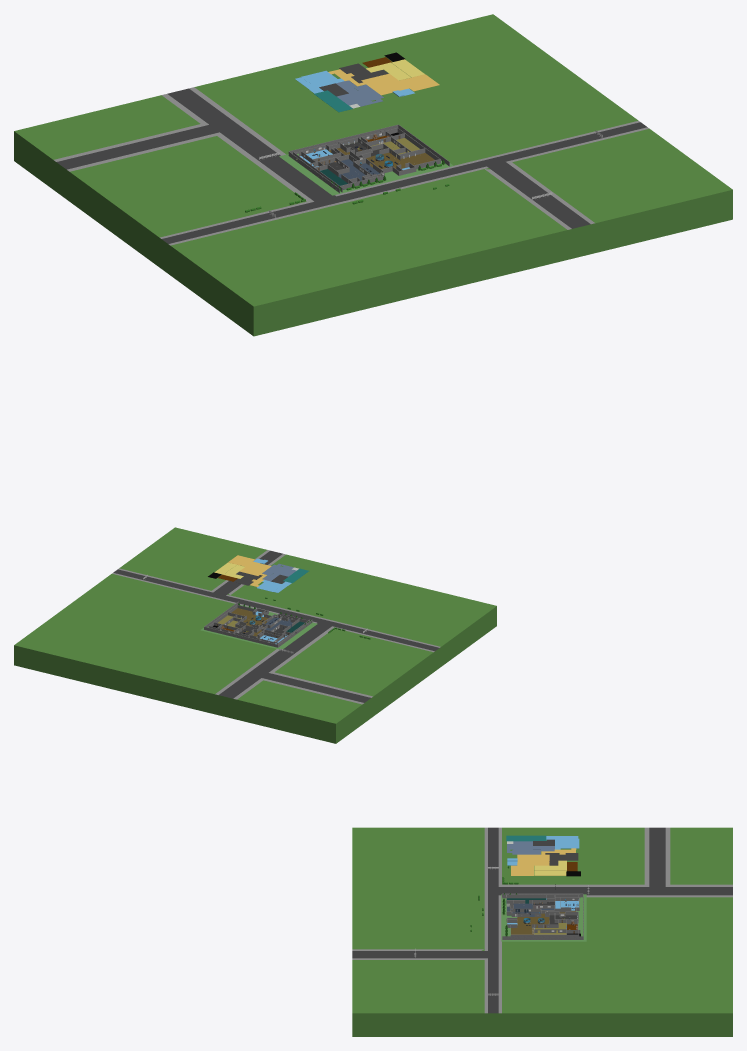
The model's file is Maps_Level_5.fbx.
3 renders of one model, top to bottom at view 1: azimuth 30°, elevation 25°; view 2: azimuth 150°, elevation 25°; view 3: azimuth 270°, elevation 25°, orthographic. The views are drawn at different scales.
Visible parts, largest first — view 1: Ground, MAIN_GAME_FLOOR.001, MAIN_GAME_FLOOR, grass-Florr; view 2: Ground, MAIN_GAME_FLOOR.001, MAIN_GAME_FLOOR, grass-Florr; view 3: Ground, MAIN_GAME_FLOOR.001, MAIN_GAME_FLOOR, grass-Florr.
Part boxes in pixels (bbox=[...]): Ground: bbox=[14, 14, 732, 336]; MAIN_GAME_FLOOR.001: bbox=[295, 52, 439, 112]; MAIN_GAME_FLOOR: bbox=[300, 132, 434, 189]; grass-Florr: bbox=[279, 138, 453, 195]; Ground: bbox=[14, 527, 496, 743]; MAIN_GAME_FLOOR.001: bbox=[208, 555, 308, 592]; MAIN_GAME_FLOOR: bbox=[213, 608, 304, 644]; grass-Florr: bbox=[200, 605, 317, 649]; Ground: bbox=[352, 827, 732, 1036]; MAIN_GAME_FLOOR.001: bbox=[506, 835, 580, 876]; MAIN_GAME_FLOOR: bbox=[506, 898, 580, 936]; grass-Florr: bbox=[501, 894, 586, 941].
Bounding box in the file's own units: 434 × 73.63 × 552.
